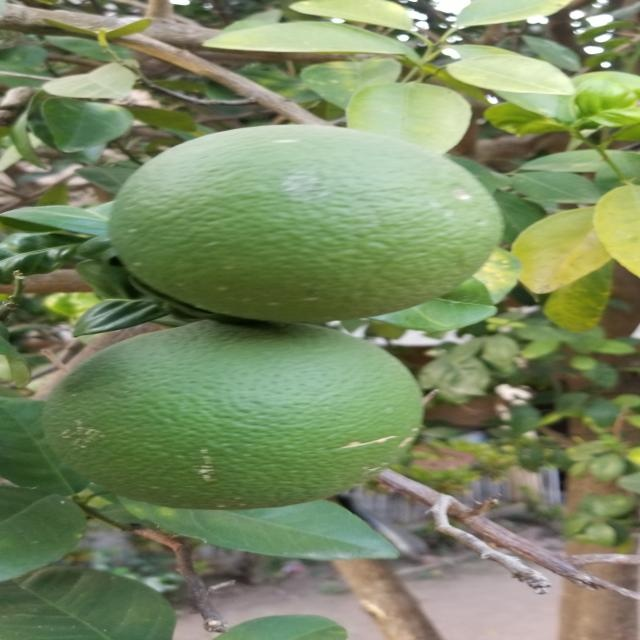agrume: (111, 125, 516, 324), (39, 314, 425, 514)
